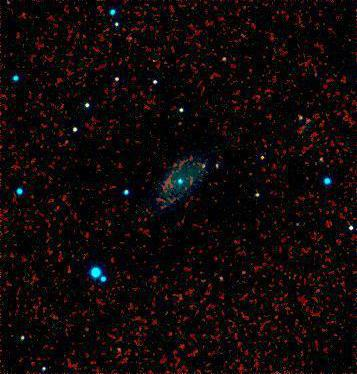star: (245, 145, 275, 175)
